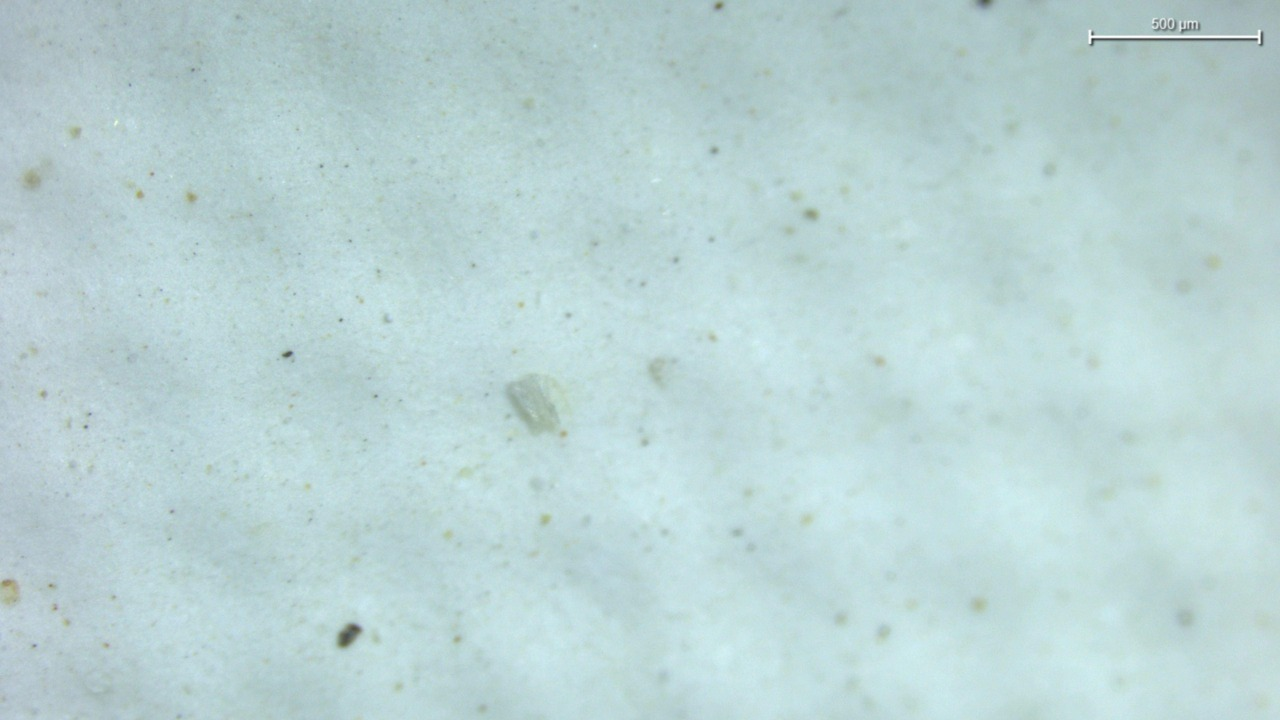microplastic_fragment: (506, 375, 560, 432)
